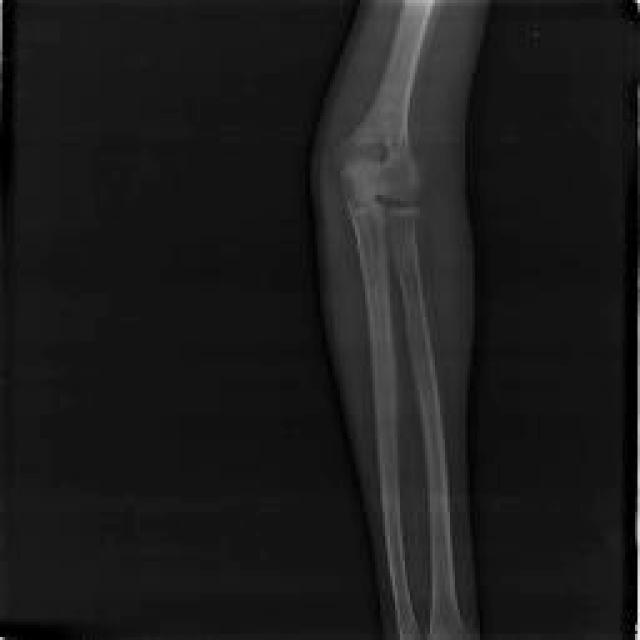normal: (341, 3, 469, 638)
